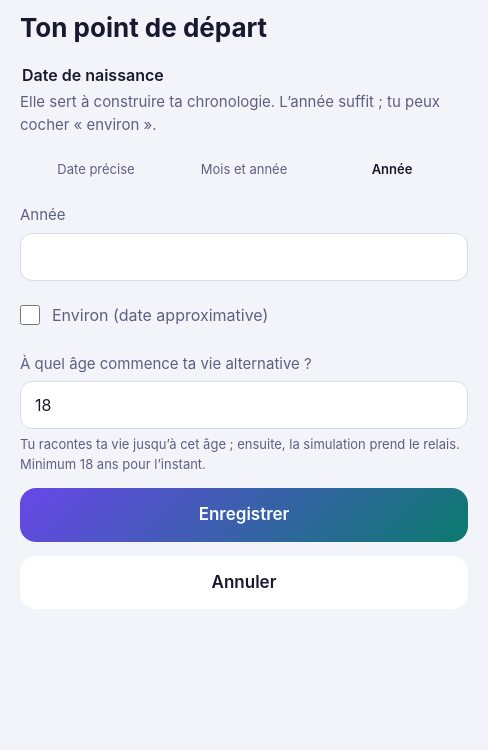
Test: dossier de vie : parcours dans l’interface › enchaîne les questions et fait apparaître une question conditionnelle
In the field labelled "Année": (244, 256) left=20, top=232, right=468, bottom=280, type "2000"
Replace the text in the field labelled "À quel âge commence" with "20": (244, 405) left=20, top=381, right=468, bottom=429
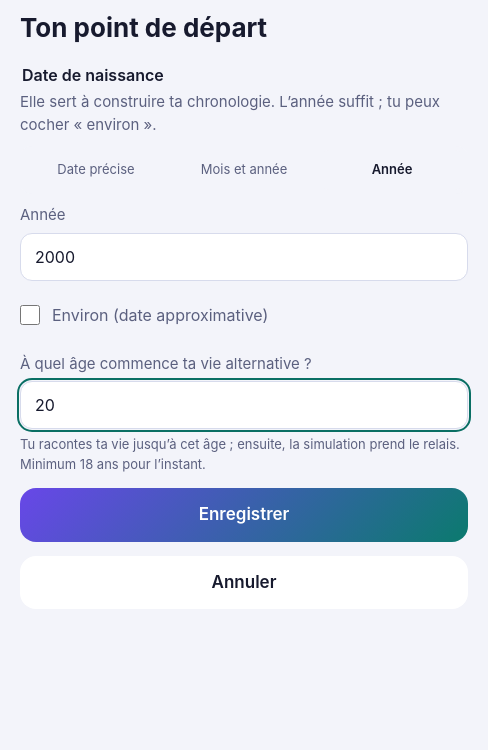
Click the button "Enregistrer": (244, 515) left=20, top=488, right=468, bottom=542
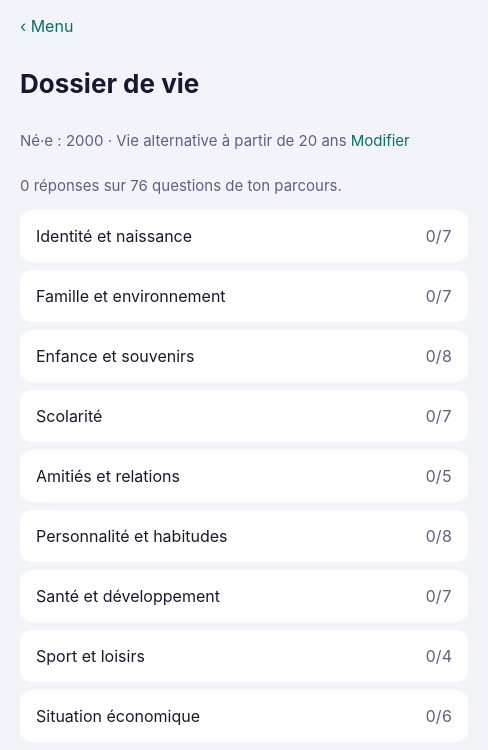
Click the button "Famille et environnement 0/7": (131, 296) left=20, top=270, right=468, bottom=322
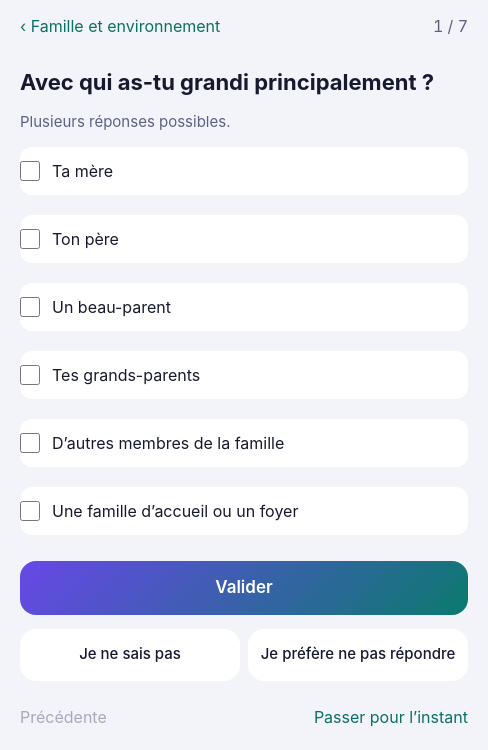
Expected: the heading reads "Avec qui as-tu grandi principalement ?", left=20, top=69, right=434, bottom=95
Click the checkbox labelled "Ta mère": (30, 171) left=20, top=161, right=40, bottom=181
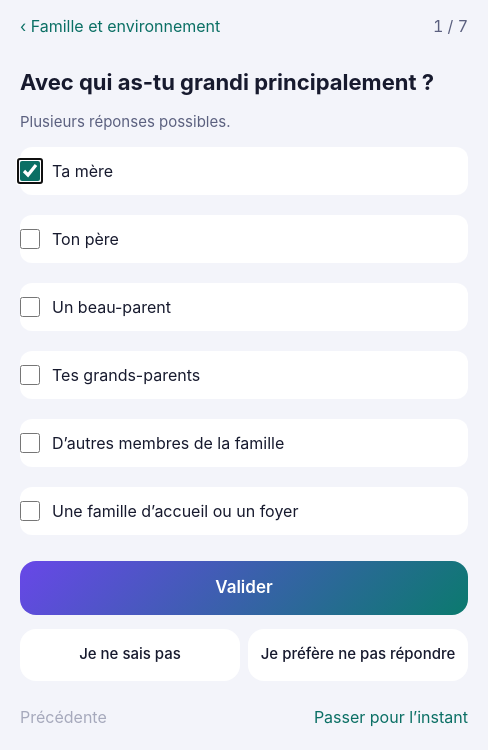
Click the button "Valider": (244, 588) left=20, top=561, right=468, bottom=615
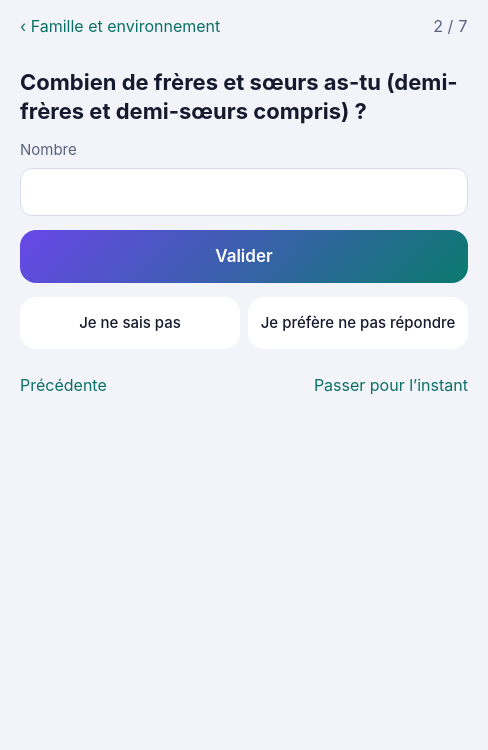
Expected: the heading shows "Combien de frères et sœurs", left=20, top=69, right=458, bottom=124
In the field labelled "Nombre": (244, 192) left=20, top=168, right=468, bottom=216, type "2"
Click the button "Valider": (244, 256) left=20, top=230, right=468, bottom=283
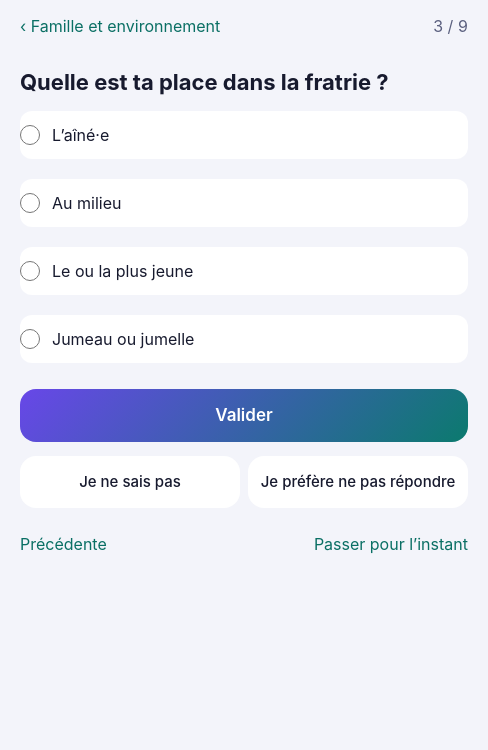
Expected: the heading reads "Quelle est ta place dans la fratrie ?", left=20, top=69, right=388, bottom=95
